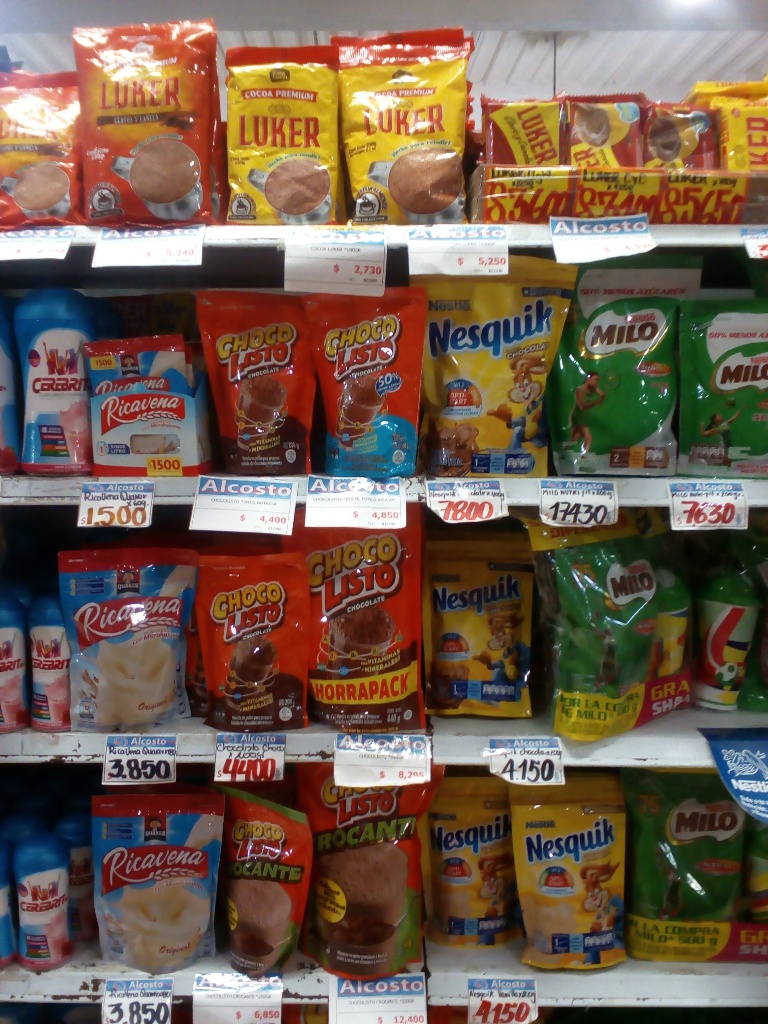COL0170102DYP25000: (208, 780, 313, 984)
COL0170102DYP50000: (297, 759, 426, 971)
COL0170103DYP44000: (285, 511, 424, 729)
COL0170104DYP20000: (304, 282, 427, 483)
COL0170203DYP50000: (531, 515, 651, 741)
COL0170205DYP20000: (680, 302, 768, 480)
COL0170205DYP50000: (549, 255, 688, 480)
COL0170303DYP20000: (427, 538, 536, 730)
COL0170306DYP20000: (431, 779, 525, 969)
